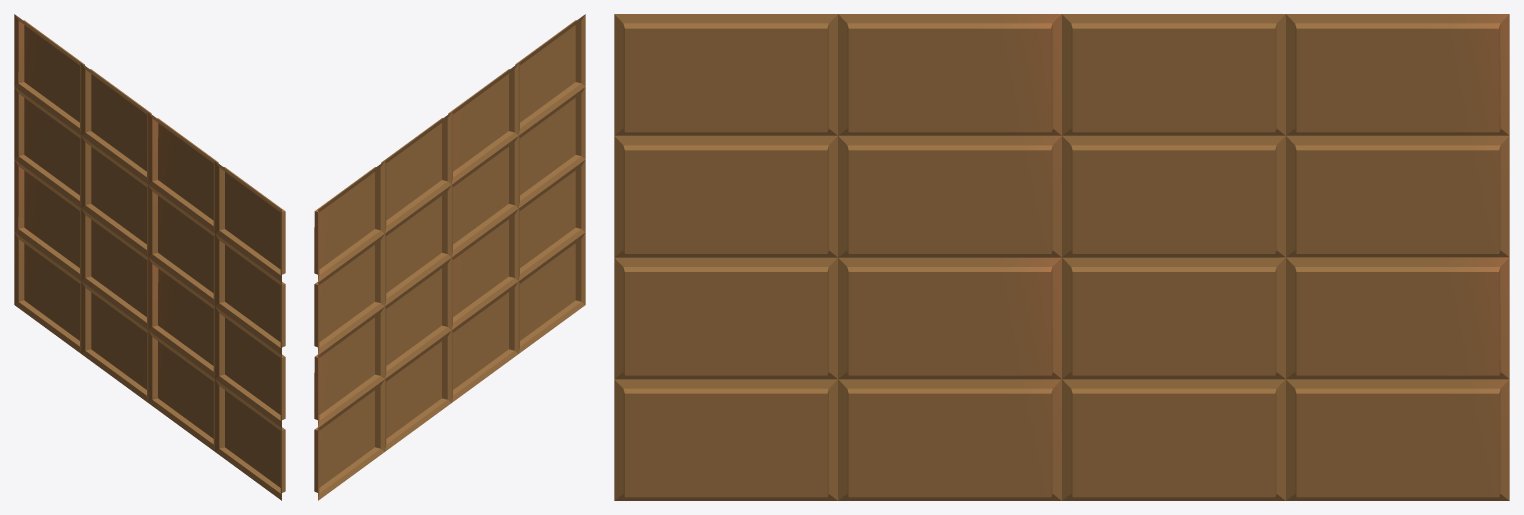
Rendered from Stairs Side 4x4.fbx.
The picture shows the model from 3 angles, left to right: view 1: azimuth 30°, elevation 25°; view 2: azimuth 150°, elevation 25°; view 3: azimuth 270°, elevation 25°; orthographic projection. The views are drawn at different scales.
Parts seen in each view (by area): view 1: Stair Asset Side 4x4; view 2: Stair Asset Side 4x4; view 3: Stair Asset Side 4x4.
Boxes of the visible parts, bbox=[...] form: Stair Asset Side 4x4: bbox=[14, 14, 285, 500]; Stair Asset Side 4x4: bbox=[314, 14, 585, 500]; Stair Asset Side 4x4: bbox=[614, 14, 1509, 500].
Bounding box in the file's own units: 2.9 × 120 × 200.
